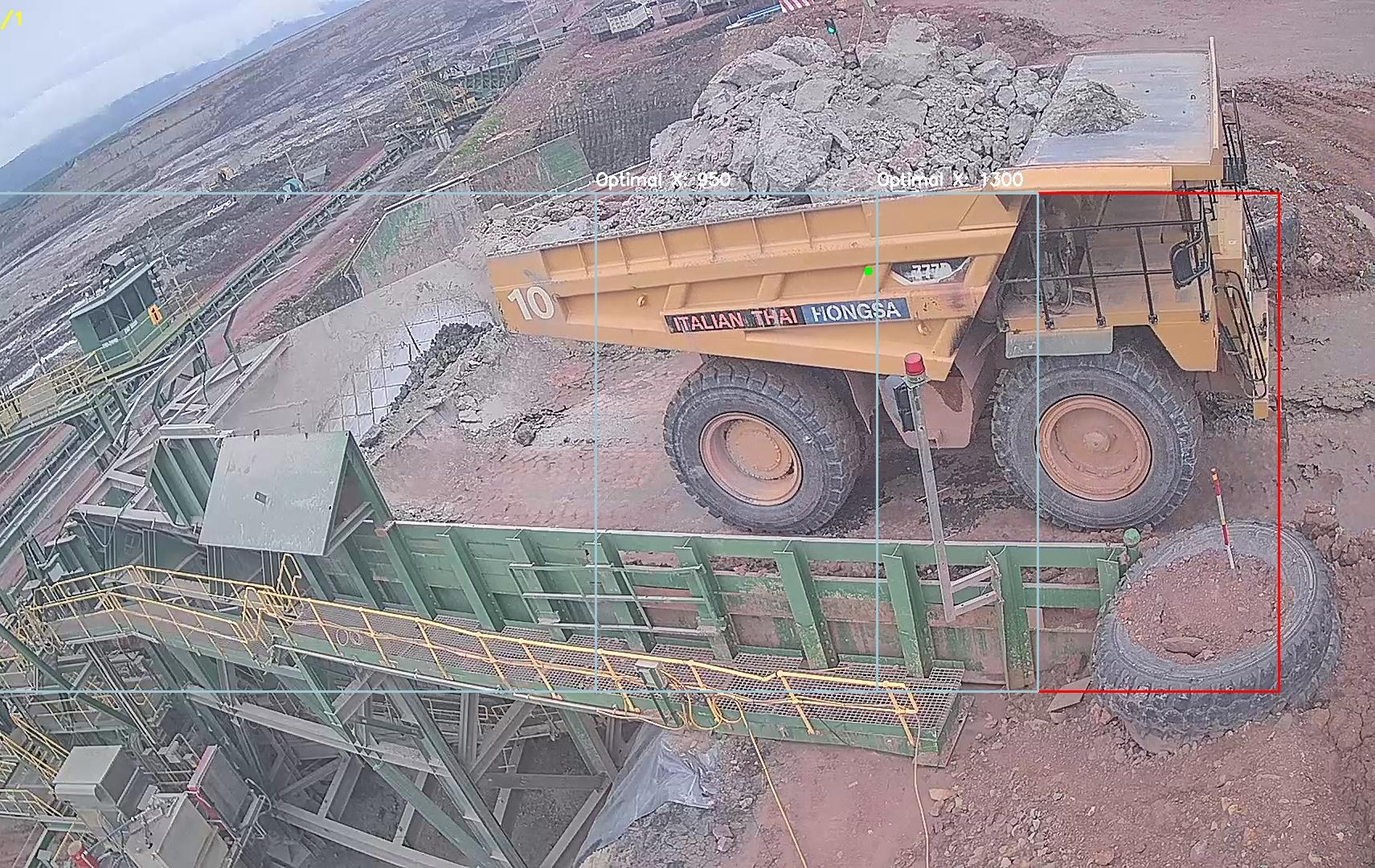company: (650, 292, 918, 335)
full_load: (673, 28, 1030, 224)
mining_truck: (479, 15, 1316, 528)
tail_number: (501, 272, 566, 332)
truck_size: (883, 253, 976, 288)
